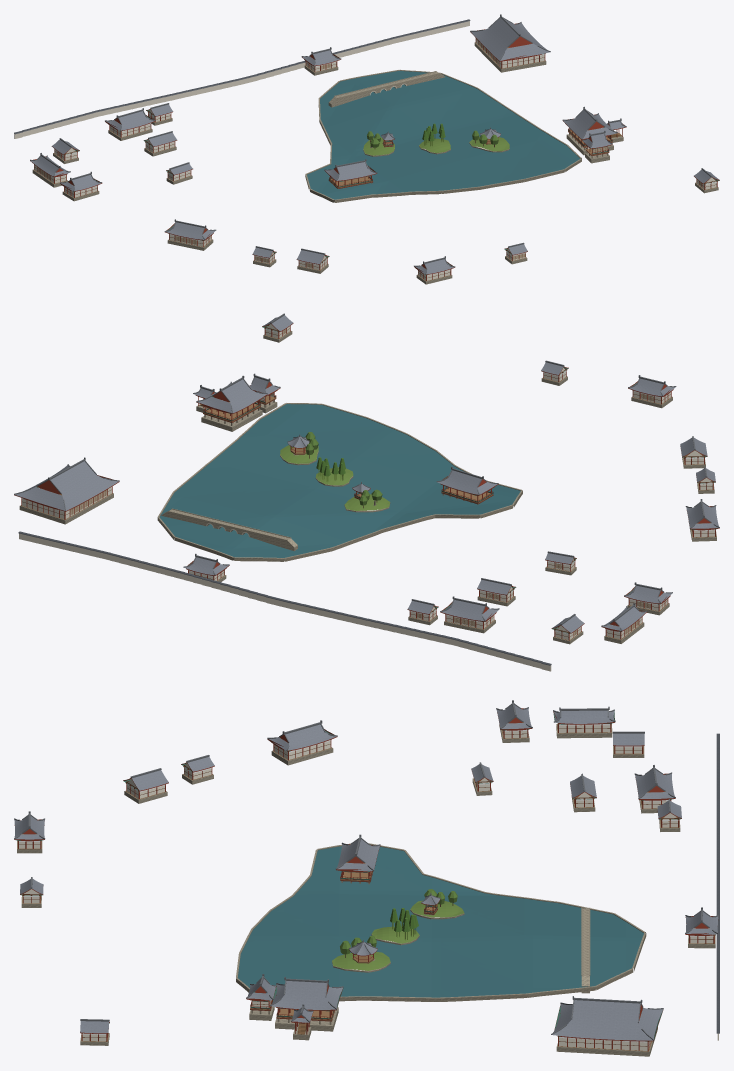
The model's file is gwanghallu.glb.
The picture shows the model from 3 angles, top to bottom: view 1: azimuth 30°, elevation 25°; view 2: azimuth 150°, elevation 25°; view 3: azimuth 270°, elevation 25°; orthographic projection. The views are drawn at different scales.
Parts seen in each view (by area): view 1: gwanghallu; view 2: gwanghallu; view 3: gwanghallu.
Boxes of the visible parts, x1,y1,x2,y2 form: gwanghallu: (14,14,719,284); gwanghallu: (14,313,719,671); gwanghallu: (14,700,719,1056).
Size of the model in its own units: 259 by 16.68 by 229.
6 materials, 4 textured.
